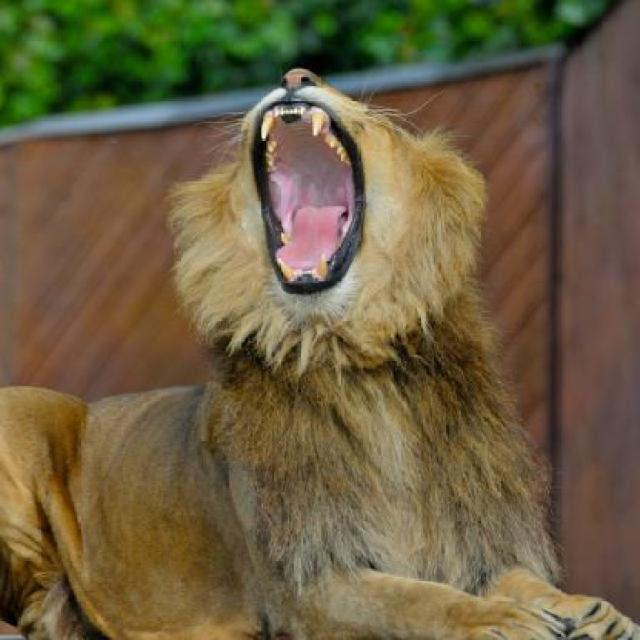Lion: (1, 64, 622, 638)
